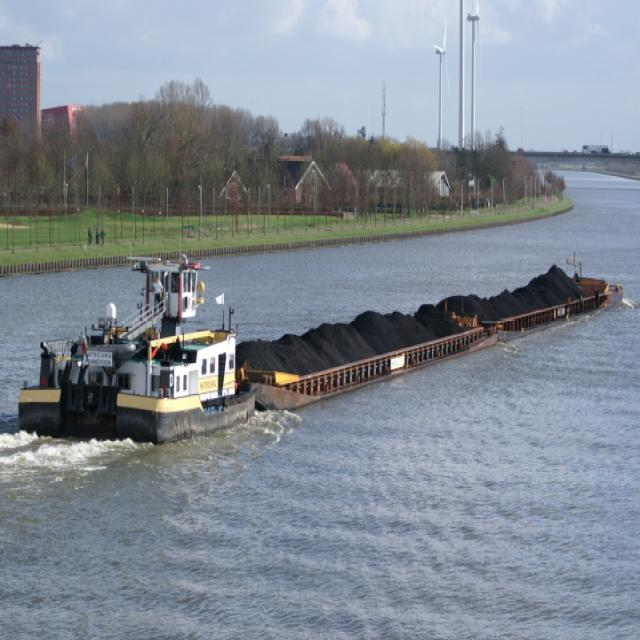tugboat: (17, 251, 261, 452)
